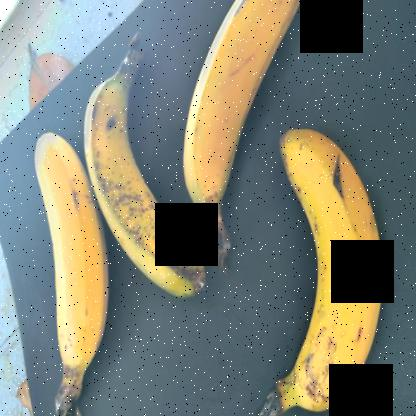freshripe: (1, 136, 113, 392), (178, 1, 308, 209)
ripe: (261, 119, 388, 415), (81, 54, 200, 309)
